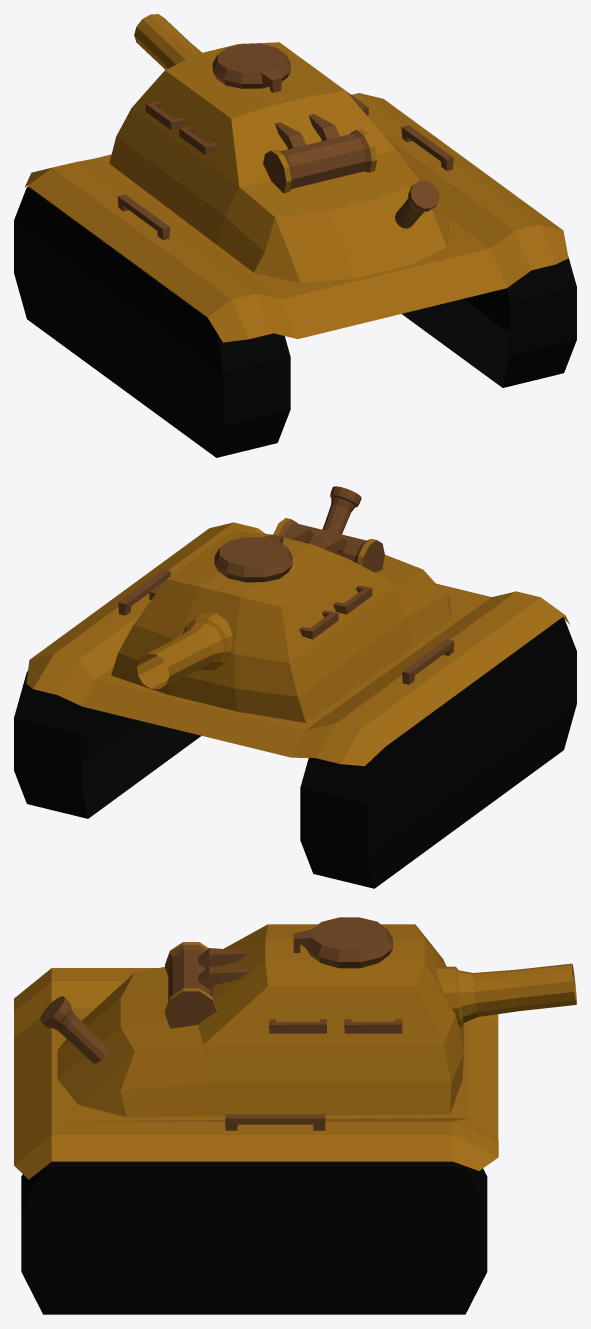
Rendered from LowPolyTank2.fbx.
The picture shows the model from 3 angles, top to bottom: view 1: azimuth 30°, elevation 25°; view 2: azimuth 150°, elevation 25°; view 3: azimuth 270°, elevation 25°; orthographic projection. The views are drawn at different scales.
Parts seen in each view (by area): view 1: Cube, Cube.008, Cube.007, Cylinder.003, Cylinder.002, Cylinder.001, Cube.006, Cube.005; view 2: Cube, Cube.008, Cube.007, Cylinder.002, Cylinder.003, Cylinder.001, Cube.006, Cube.005, Cube.003, Cube.004; view 3: Cube, Cube.007, Cylinder.003, Cylinder.002, Cylinder.001, Cube.005, Cube.001, Cube.002.
Boxes of the visible parts, <box> form: Cube: <box>24,14,568,342</box>; Cube.008: <box>14,186,290,457</box>; Cube.007: <box>402,257,576,387</box>; Cylinder.003: <box>263,114,376,193</box>; Cylinder.002: <box>212,43,290,92</box>; Cylinder.001: <box>395,180,439,228</box>; Cube.006: <box>117,194,169,240</box>; Cube.005: <box>401,125,453,170</box>; Cube: <box>26,522,569,766</box>; Cube.008: <box>300,617,576,888</box>; Cube.007: <box>14,671,201,818</box>; Cylinder.002: <box>214,534,292,582</box>; Cylinder.003: <box>273,518,384,572</box>; Cylinder.001: <box>322,486,361,534</box>; Cube.006: <box>402,639,454,684</box>; Cube.005: <box>118,570,170,615</box>; Cube.003: <box>333,585,372,614</box>; Cube.004: <box>299,610,338,639</box>; Cube: <box>14,924,576,1179</box>; Cube.007: <box>21,1161,487,1314</box>; Cylinder.003: <box>165,942,248,1028</box>; Cylinder.002: <box>293,917,393,968</box>; Cylinder.001: <box>40,996,108,1063</box>; Cube.005: <box>225,1114,325,1130</box>; Cube.001: <box>344,1019,402,1033</box>; Cube.002: <box>269,1019,326,1033</box>.
Size of the model in its own units: 487 by 336 by 599.
